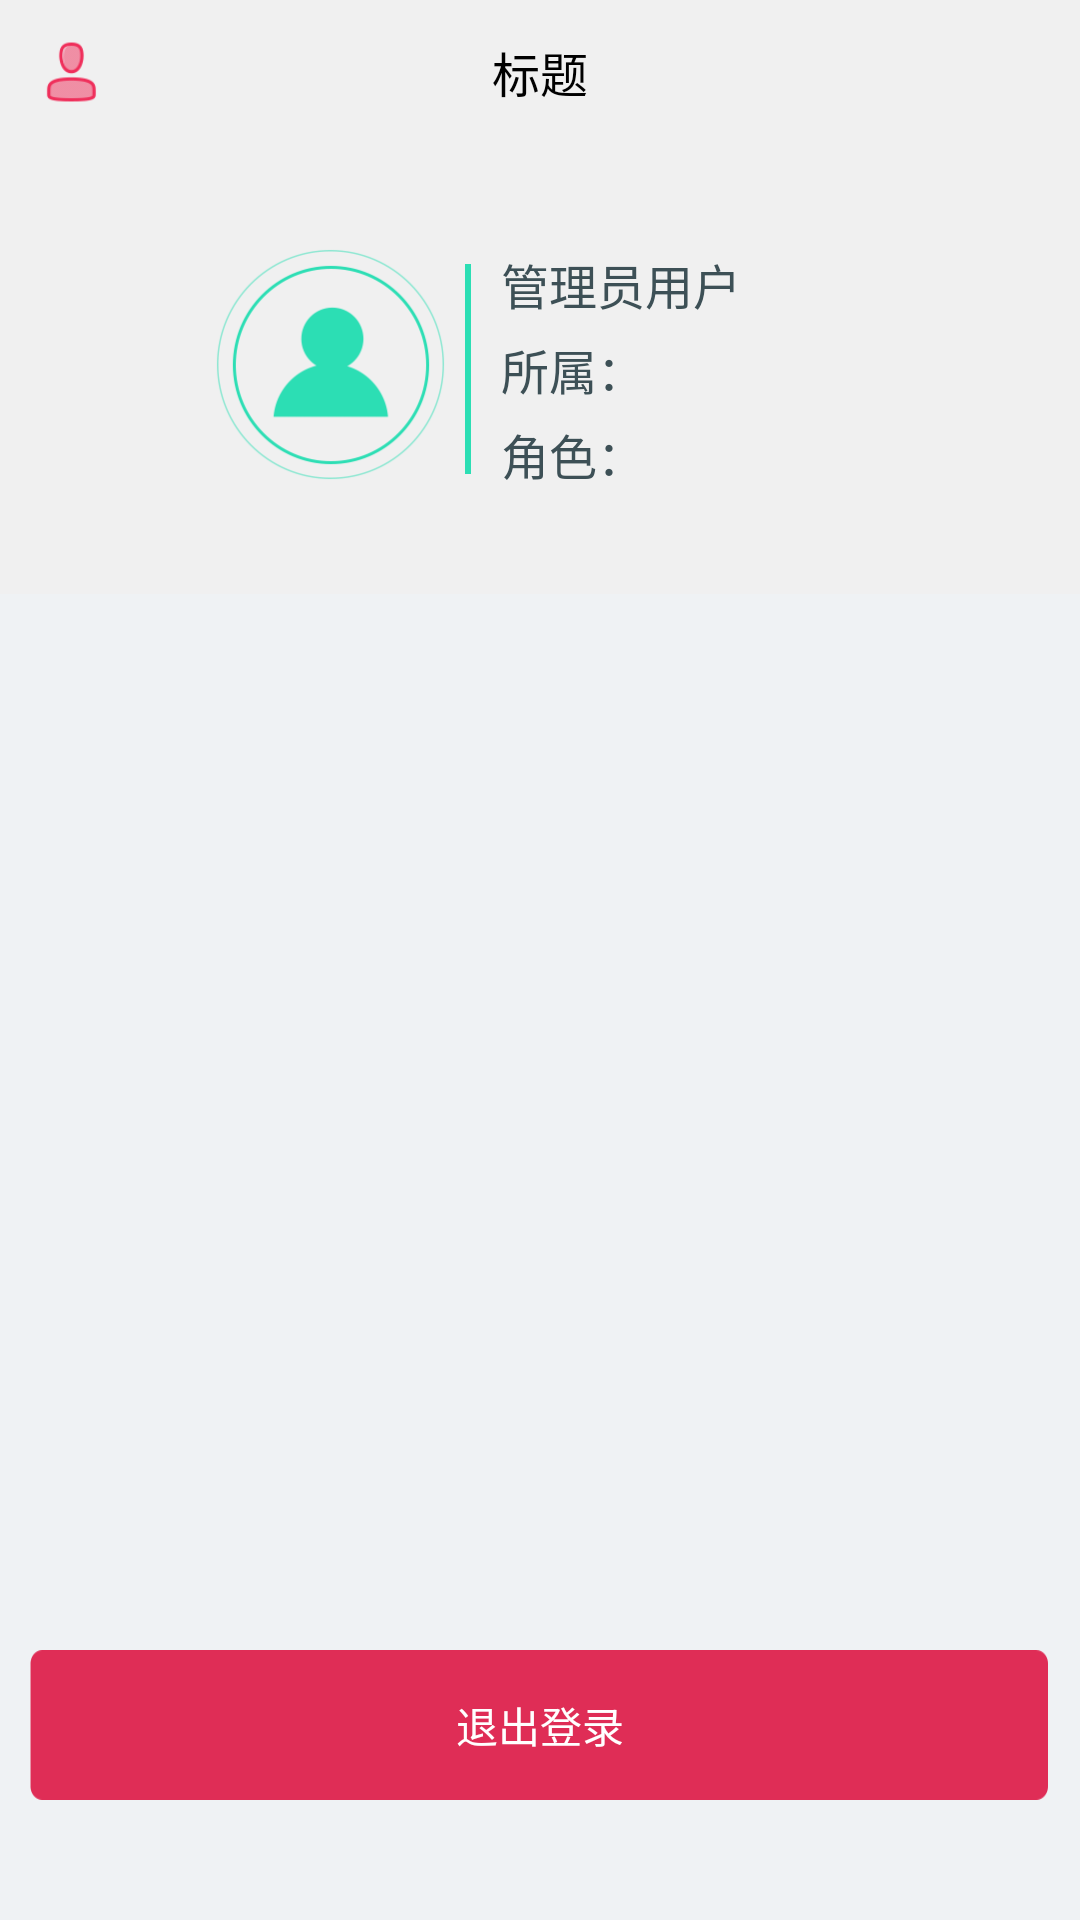

Icon bounding boxes for this 1080×1920 phone screenshot, format (x1, y1, x2, y2):
head: (217, 250, 444, 479)
user: (47, 42, 96, 102)
